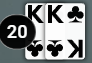k: (24, 3, 45, 25), (47, 3, 65, 25)
